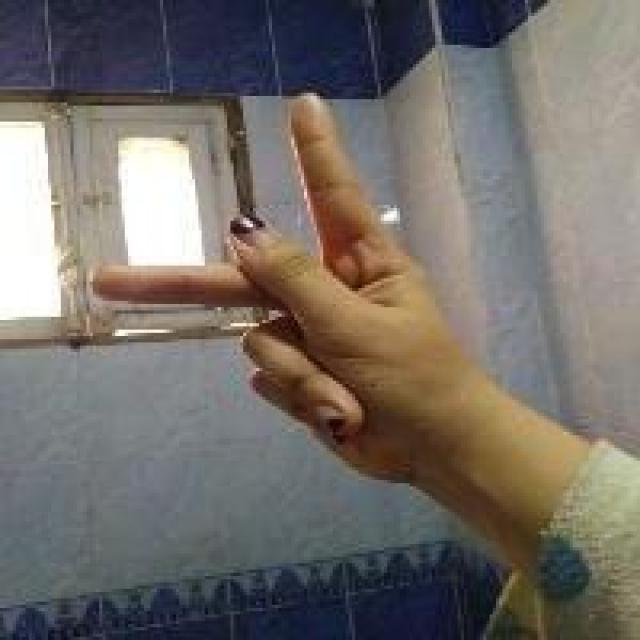K: (81, 80, 446, 470)
